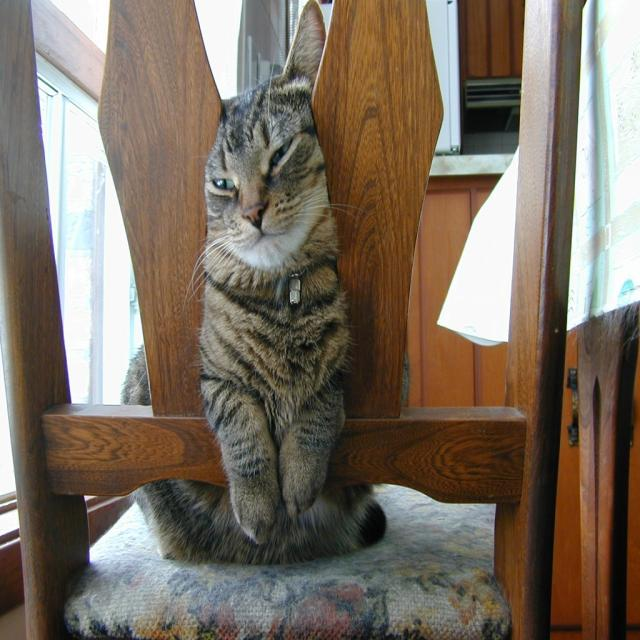Cat: (117, 0, 389, 567)
